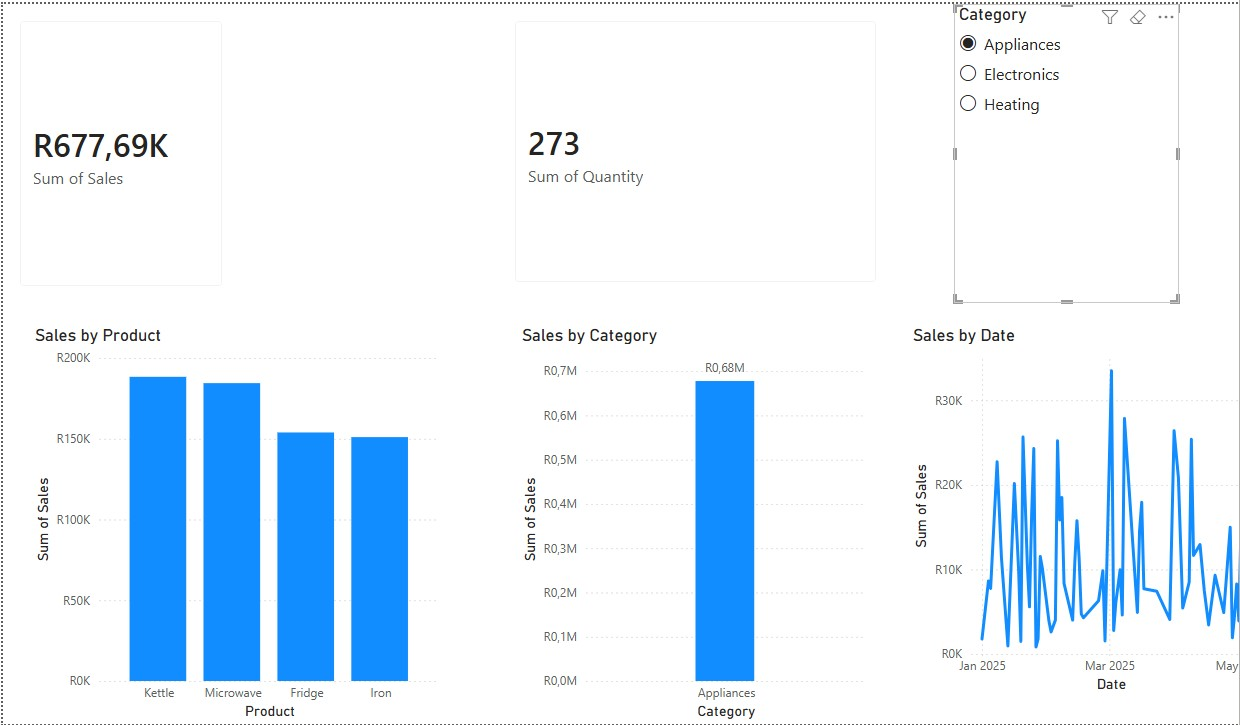

What the dashboard file says about the page in this screenshot:
{"tool":"powerbi","page":{"name":"Page 1","canvas":[1280,720],"ordinal":0},"visuals":[{"type":"clusteredColumnChart","title":"Sales by Product","fields":{"Category":["ecommerce_sales_dataset.Product"],"Y":["Sum(ecommerce_sales_dataset.Sales)"]},"box":[27.3,320.9,414.5,399.1],"z":0},{"type":"clusteredColumnChart","title":"Sales by Category","fields":{"Category":["ecommerce_sales_dataset.Category"],"Y":["Sum(ecommerce_sales_dataset.Sales)"]},"box":[513.8,321.2,353.8,398.8],"z":1000},{"type":"cardVisual","fields":{"Data":["Sum(ecommerce_sales_dataset.Sales)"]},"box":[0,0,236.2,298.8],"z":2000},{"type":"cardVisual","fields":{"Data":["Sum(ecommerce_sales_dataset.Quantity)"]},"box":[495,0,395,295],"z":3000},{"type":"lineChart","title":"Sales by Date","fields":{"Y":["Sum(ecommerce_sales_dataset.Sales)"],"Category":["ecommerce_sales_dataset.Date"]},"box":[905,321.2,363.8,371.2],"z":4000},{"type":"listSlicer","fields":{"Values":["ecommerce_sales_dataset.Category"]},"box":[950.9,0,225.5,299.1],"z":4001}]}

Visuals, with their boxes on the page's 1280x720 design canvas (x1, y1, x2, y2). These are canvas units, not pixel positions in the 1240x725 screenshot, which may show the page scaled, cropped or inside an application window:
"Sales by Product" clusteredColumnChart: x1=27 y1=321 x2=442 y2=720
"Sales by Category" clusteredColumnChart: x1=514 y1=321 x2=868 y2=720
cardVisual - Sum(ecommerce_sales_dataset.Sales): x1=0 y1=0 x2=236 y2=299
cardVisual - Sum(ecommerce_sales_dataset.Quantity): x1=495 y1=0 x2=890 y2=295
"Sales by Date" lineChart: x1=905 y1=321 x2=1269 y2=692
listSlicer - ecommerce_sales_dataset.Category: x1=951 y1=0 x2=1176 y2=299
